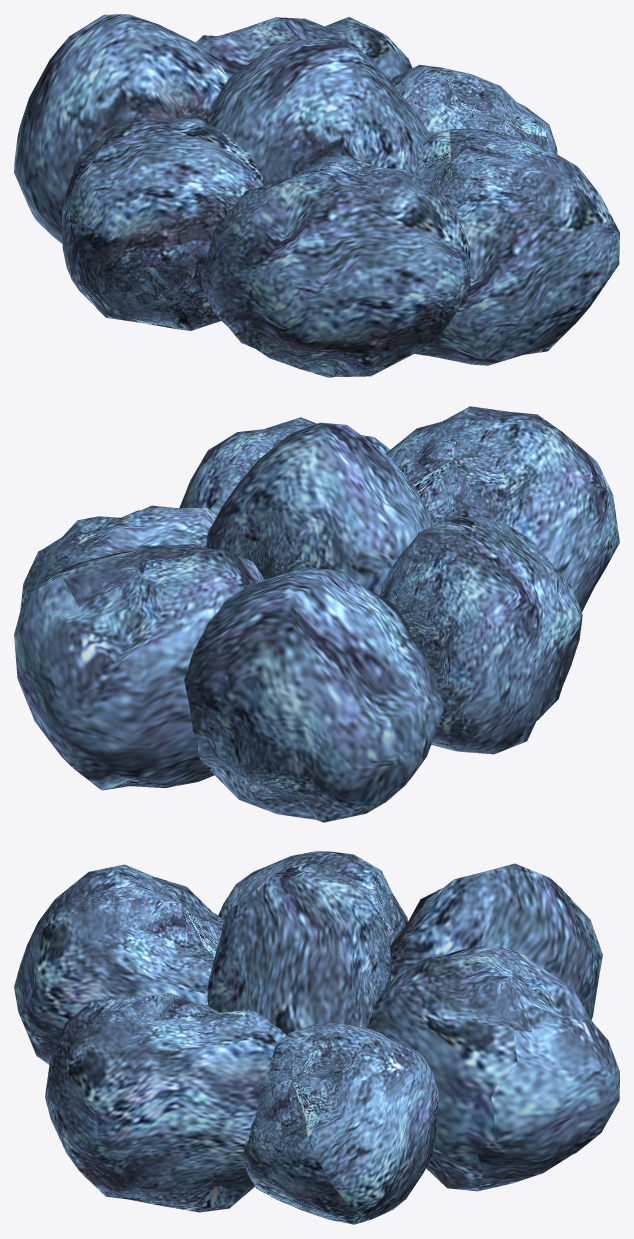
The model's file is mengkuangshi.fbx.
3 views of the same model, one above another, from view 1: azimuth 30°, elevation 25°; view 2: azimuth 150°, elevation 25°; view 3: azimuth 270°, elevation 25° (orthographic). The views are drawn at different scales.
Visible parts, largest first — view 1: polySurface8; view 2: polySurface8; view 3: polySurface8.
Part boxes in pixels (x1,y1,x2,y2): polySurface8: (14,14,619,377); polySurface8: (14,406,619,822); polySurface8: (14,851,619,1224).
Bounding box in the file's own units: 83.76 × 46.21 × 91.66.
Materials: 1 (1 with a texture image).
